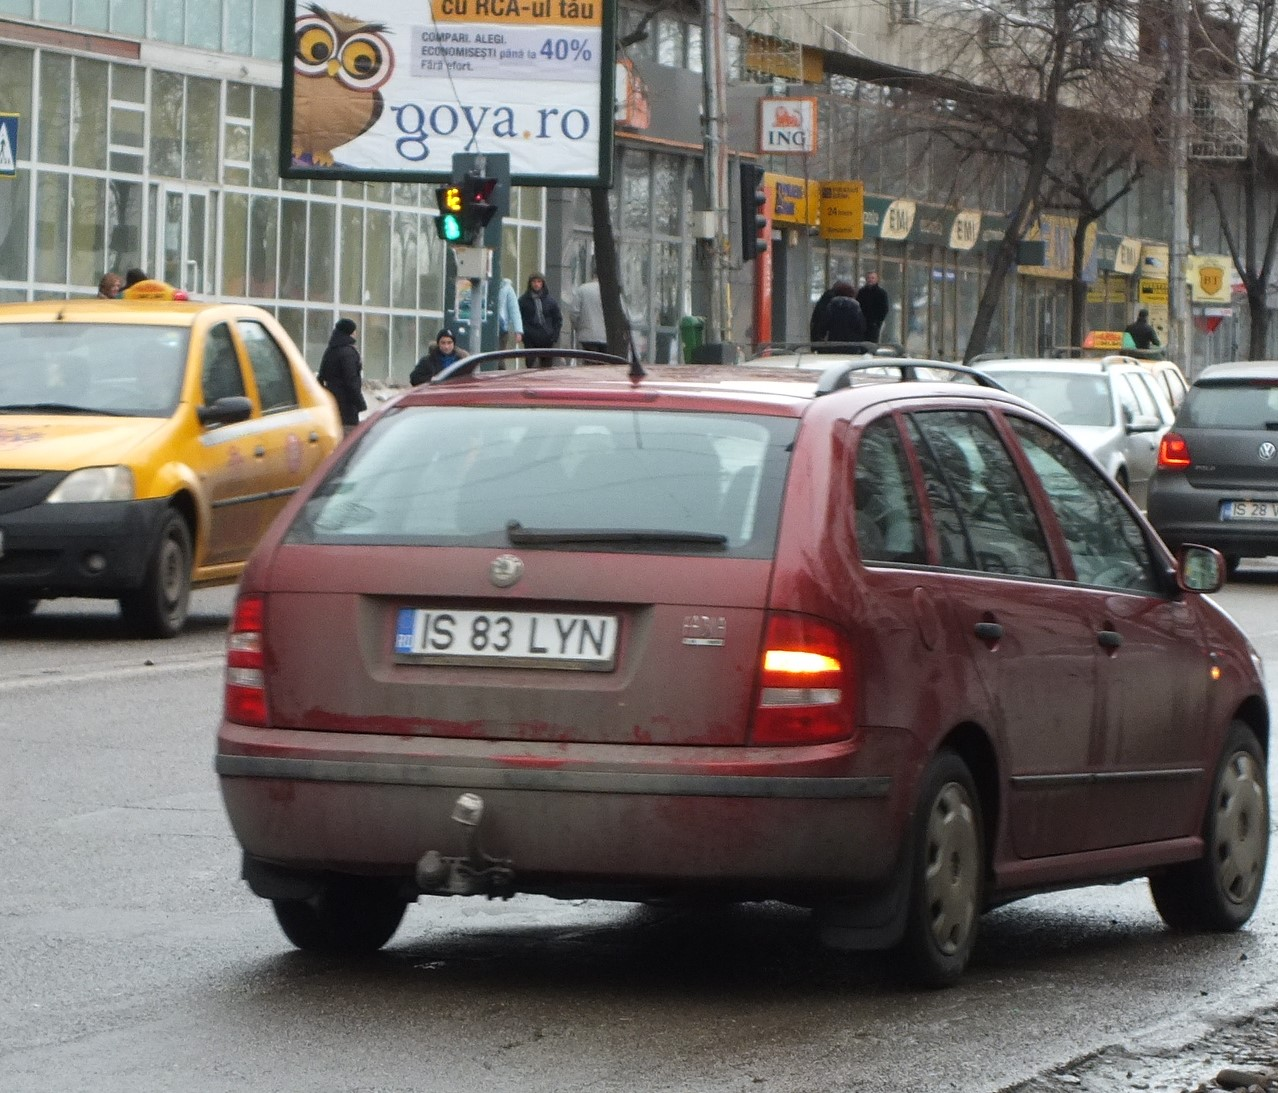IS83LYN: (393, 603, 619, 668)
